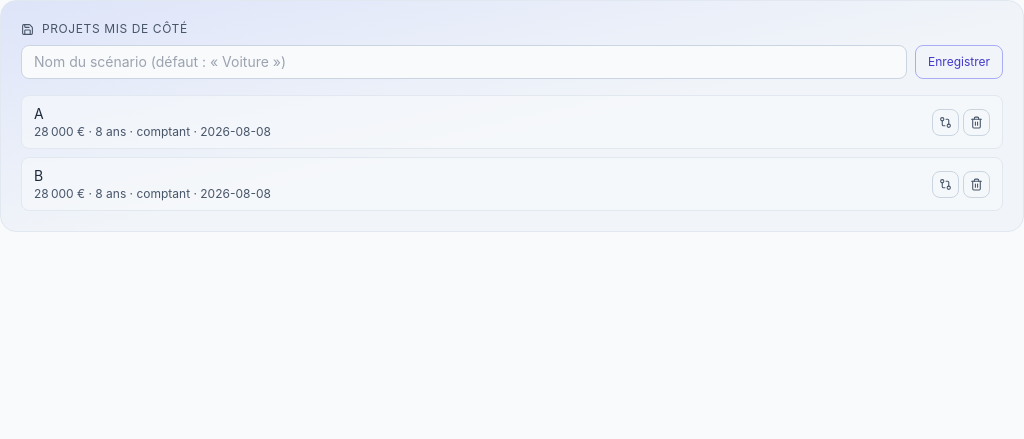
Scenario: ScenariosProjet › affiche « non atteint » quand l'objectif ne l'est pas
This screenshot has width=1024, height=439.
Click the button named "Comparer A". click: x=946, y=122
box: [932,108,959,136]
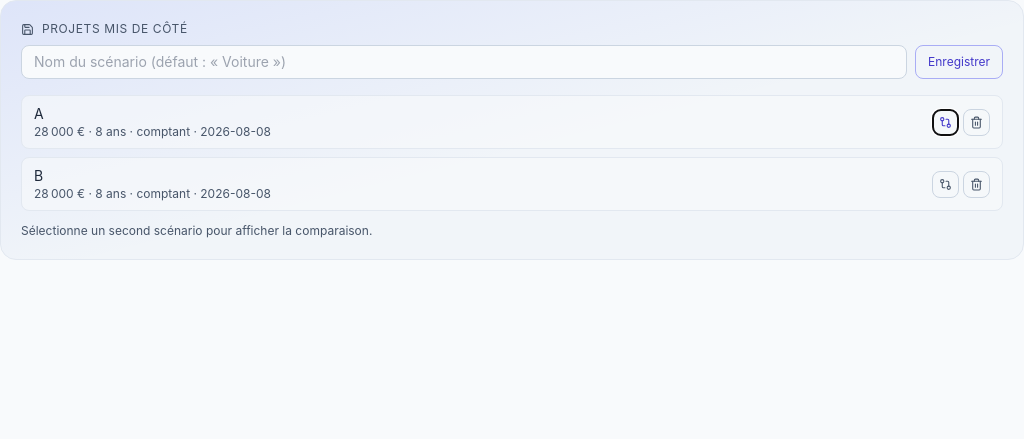
Click the button named "Comparer B". click: x=946, y=184
box: [932,170,959,198]
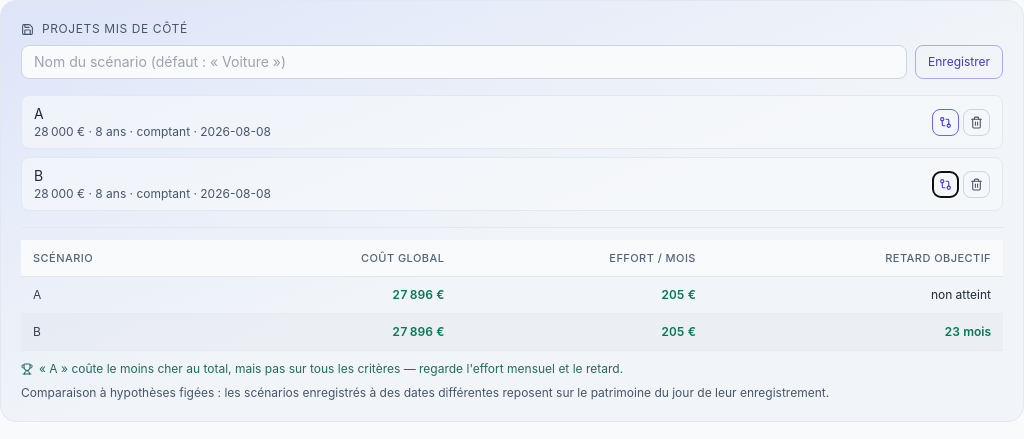
Result: the text "non atteint" is shown at [708,277,1003,314]
